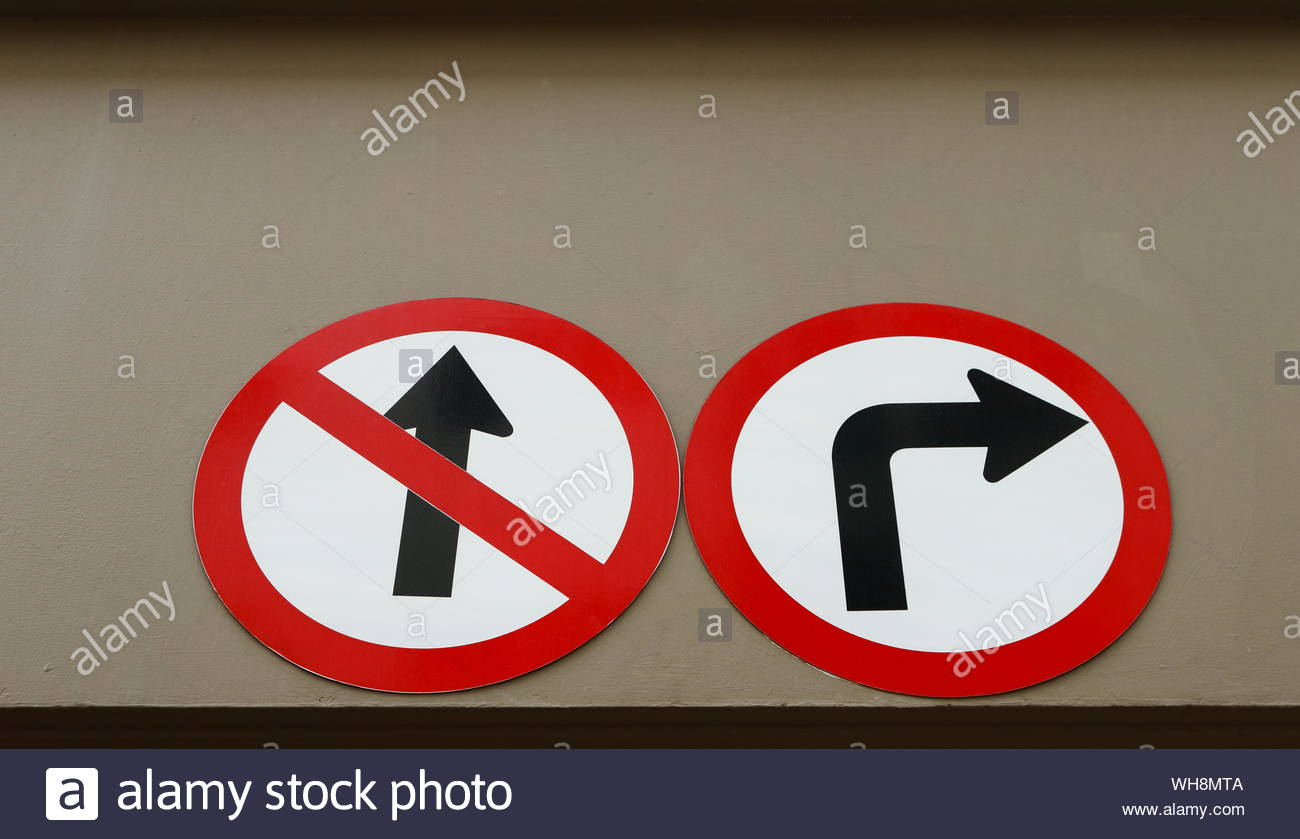right: (684, 302, 1184, 700)
